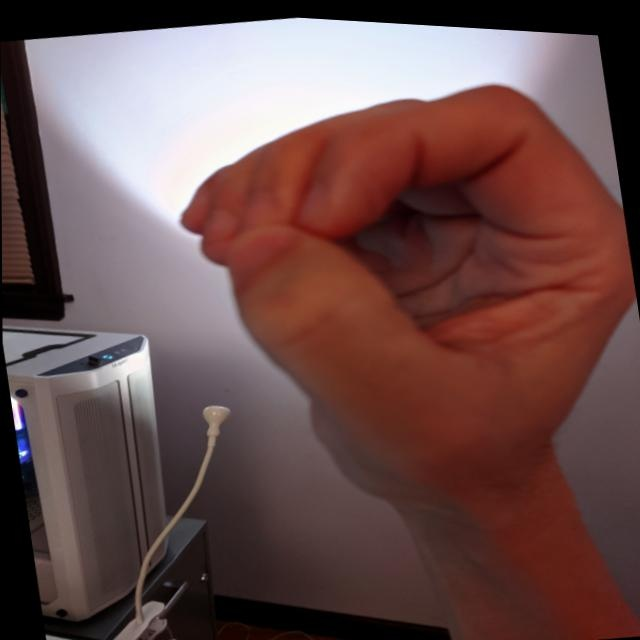O: (151, 40, 639, 552)
